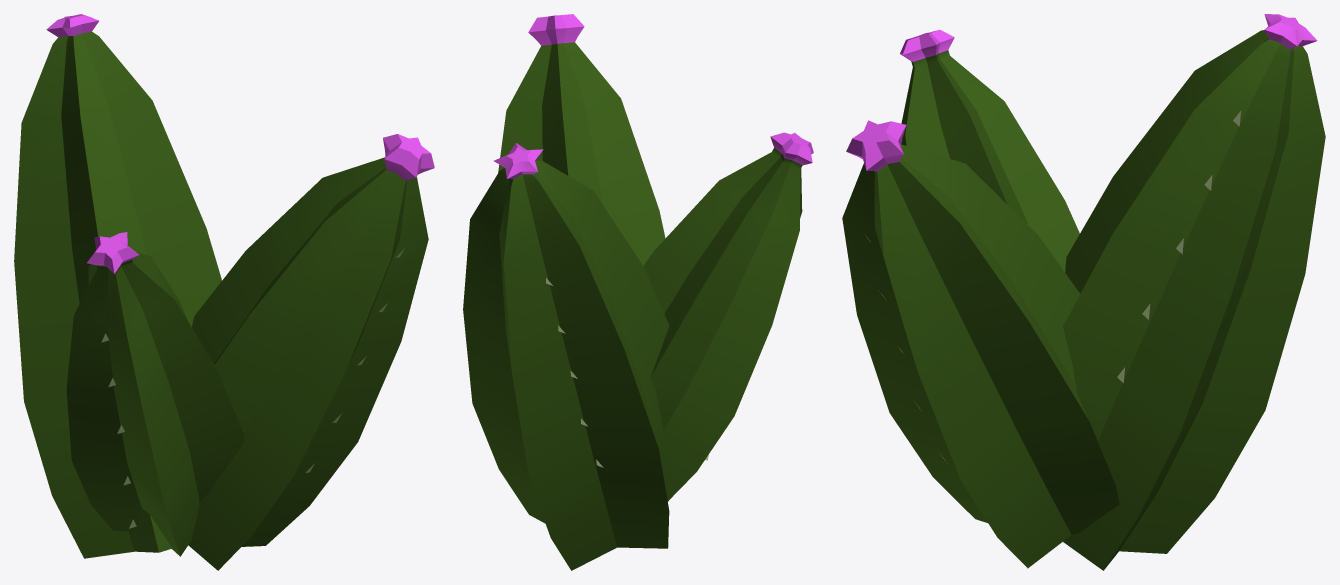
File: kaktus.glb
The picture shows the model from 3 angles, left to right: view 1: azimuth 30°, elevation 25°; view 2: azimuth 150°, elevation 25°; view 3: azimuth 270°, elevation 25°; orthographic projection. The views are drawn at different scales.
Visible parts, largest first — view 1: Cylinder; view 2: Cylinder; view 3: Cylinder.
Boxes of the visible parts, <box> form: Cylinder: <box>14,14,434,570</box>; Cylinder: <box>463,14,813,570</box>; Cylinder: <box>842,14,1325,570</box>.
Bounding box in the file's own units: 4.09 × 5.93 × 4.85.
1 material, 1 textured.
